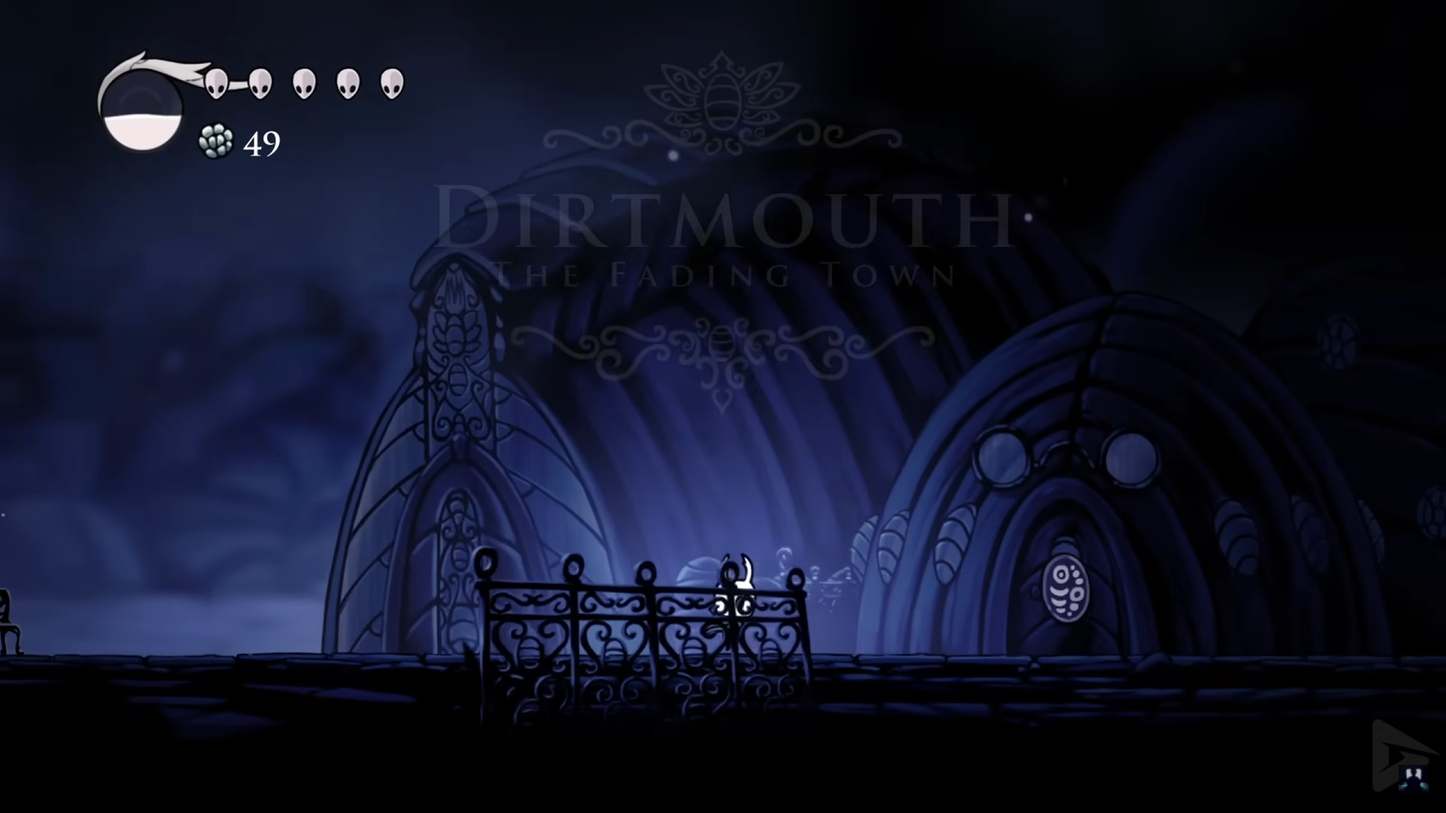HK: (707, 546, 761, 655)
